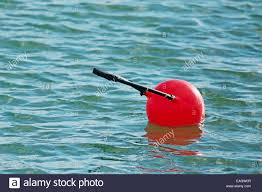buoy: (146, 79, 205, 129)
